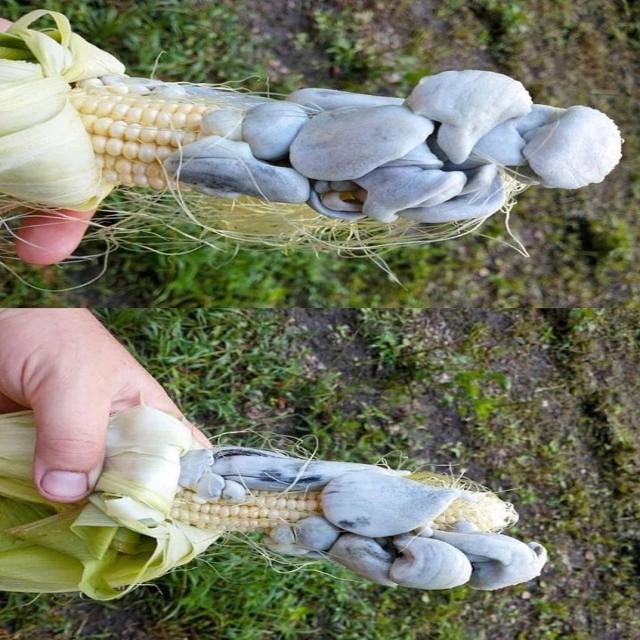Leaf_Scald: (31, 5, 630, 275), (90, 376, 590, 640)
